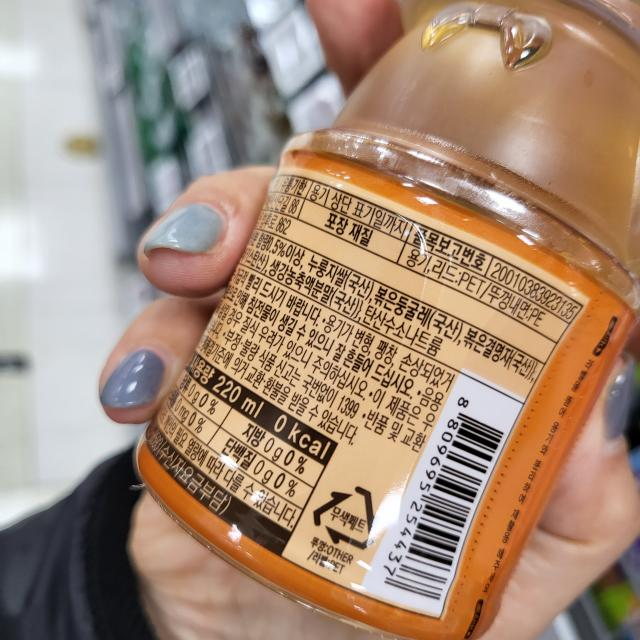ColorlessPET: (310, 483, 376, 551)
